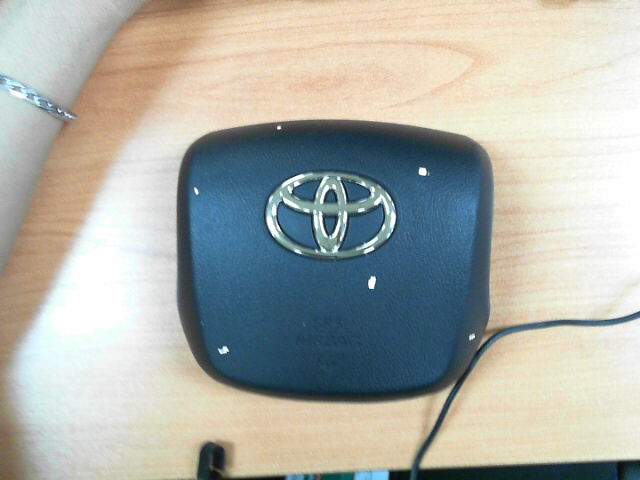Airbag: (367, 275, 377, 290), (217, 345, 230, 355), (418, 167, 430, 177), (468, 332, 476, 341), (193, 186, 201, 195), (276, 123, 282, 131)
